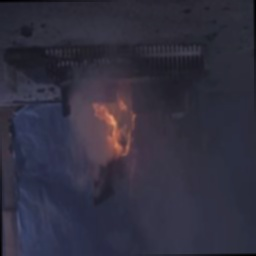fire: (79, 92, 137, 165)
